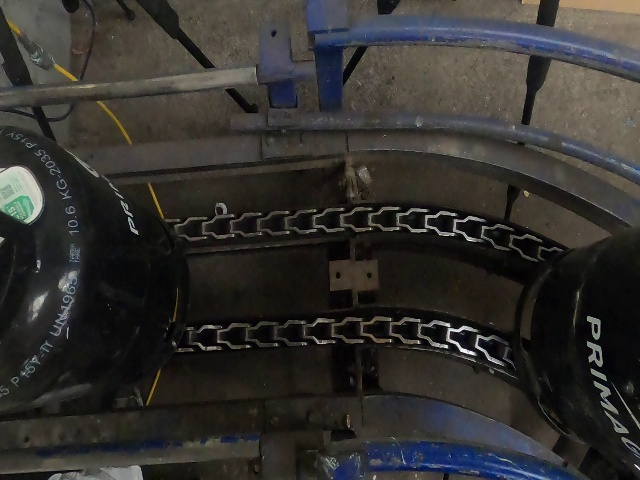gas_bottle: (4, 0, 640, 476)
